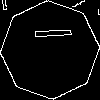I: (25, 25, 72, 42)
